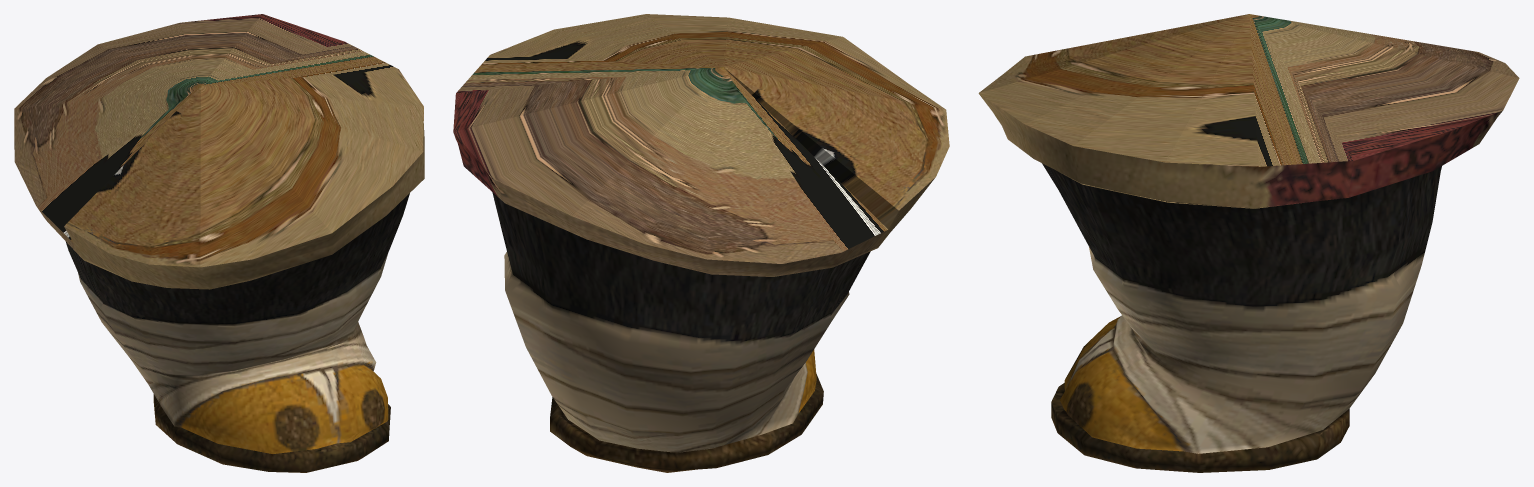
File: PataIzq.obj
The picture shows the model from 3 angles, left to right: view 1: azimuth 30°, elevation 25°; view 2: azimuth 150°, elevation 25°; view 3: azimuth 270°, elevation 25°; orthographic projection. The views are drawn at different scales.
Parts seen in each view (by area): view 1: polySurface21 polySurface20 polySurface14 polySurface12 polySurf; view 2: polySurface21 polySurface20 polySurface14 polySurface12 polySurf; view 3: polySurface21 polySurface20 polySurface14 polySurface12 polySurf.
Boxes of the visible parts, x1,y1,x2,y2 form: polySurface21 polySurface20 polySurface14 polySurface12 polySurf: (14,14,424,472); polySurface21 polySurface20 polySurface14 polySurface12 polySurf: (453,14,949,472); polySurface21 polySurface20 polySurface14 polySurface12 polySurf: (978,14,1519,472).
Bounding box in the file's own units: 0.4524 × 0.4163 × 0.534.
1 material, 1 textured.
